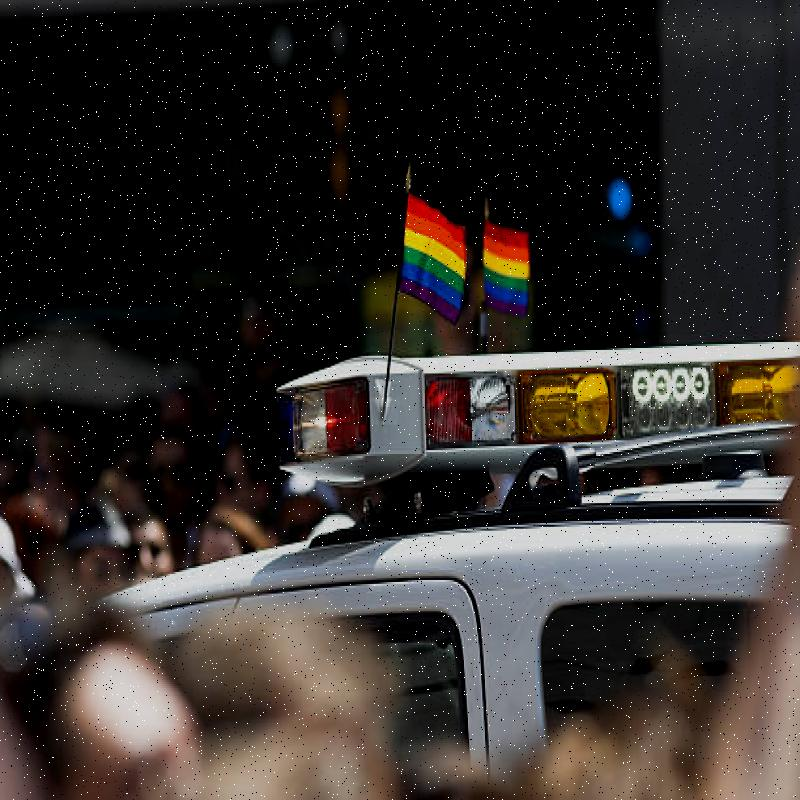AmbulanceSiren: (256, 340, 800, 472)
